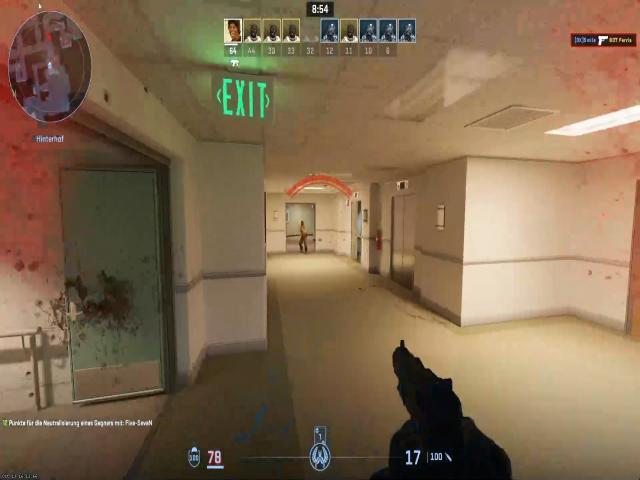T: (298, 214, 310, 246)
T-Head: (299, 220, 306, 230)
